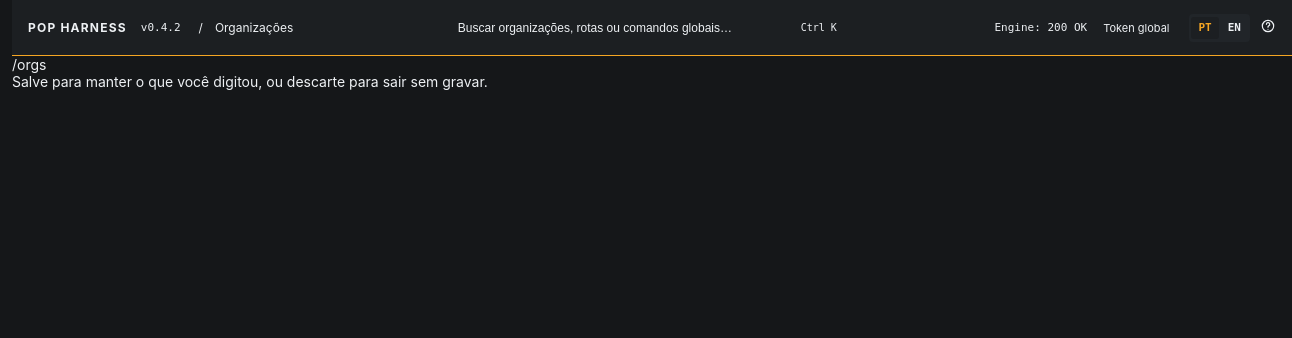
Test: busca rápida de organizações (RL-04) › setas escolhem a organização e Enter abre /orgs/:id
Type "a" into the dropdown named "Buscar organizações, telas e comandos" at (638,28), box [428, 12, 848, 42]
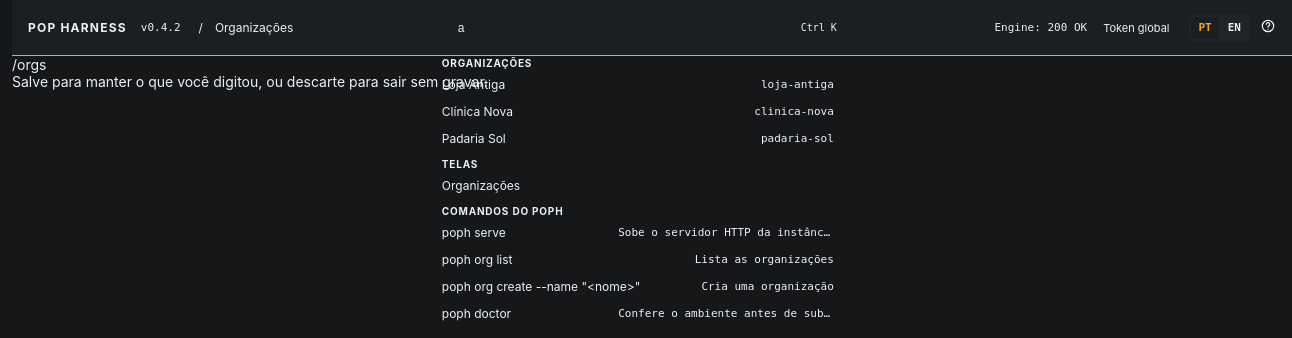
Press Arrowdown
Press Enter
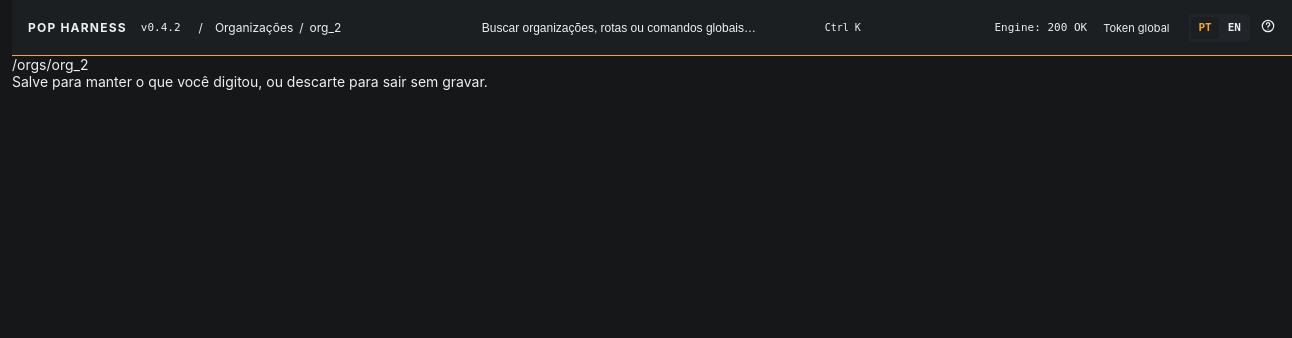
Expected: the text with test id "path" reads "/orgs/org_2", [12, 56, 88, 73]
